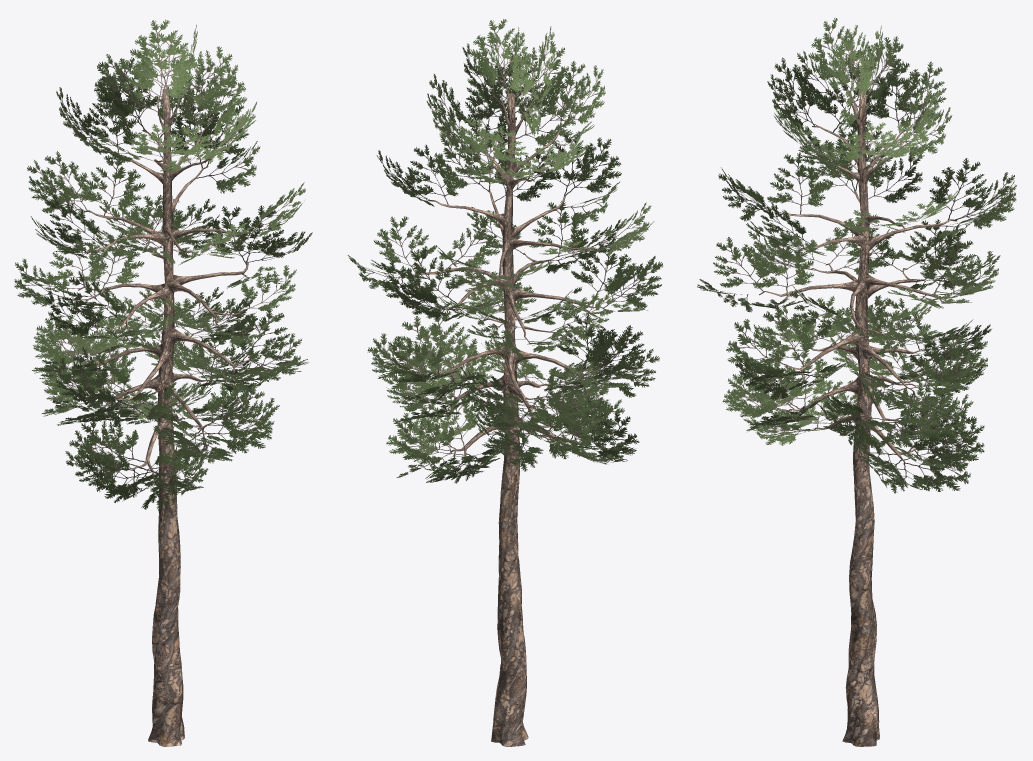
The model's file is tree_5.glb.
3 renders of one model, left to right at view 1: azimuth 30°, elevation 25°; view 2: azimuth 150°, elevation 25°; view 3: azimuth 270°, elevation 25°, orthographic.
Visible parts, largest first — view 1: tree_5; view 2: tree_5; view 3: tree_5.
Part boxes in pixels (x1=…): tree_5: x1=14, y1=19, x2=312, y2=746; tree_5: x1=347, y1=19, x2=662, y2=746; tree_5: x1=697, y1=18, x2=1016, y2=746.
Size of the model in its own units: 8.73 by 21.26 by 8.67.
Materials: 2 (2 with a texture image).
